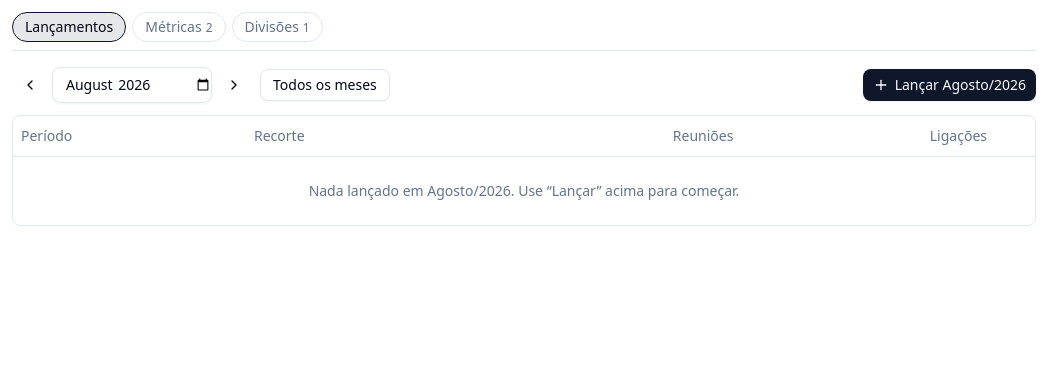
Test: ManualBaseManager v2 › abre em Lançamentos e alterna entre as abas
Click the tab "Divisões1".
click(277, 27)  # box 232,12 -> 323,42
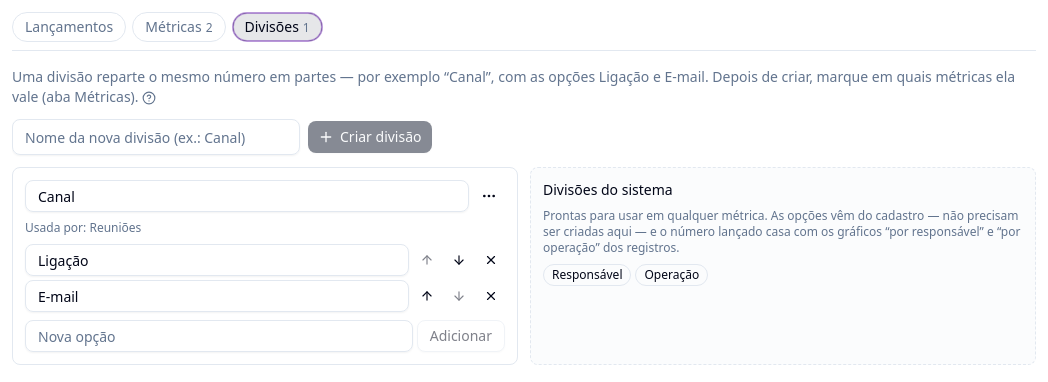
Now the field showing "Canal" is shown, box 25,180 -> 469,212
Now the text "Divisões do sistema" is shown, box 543,180 -> 673,199
